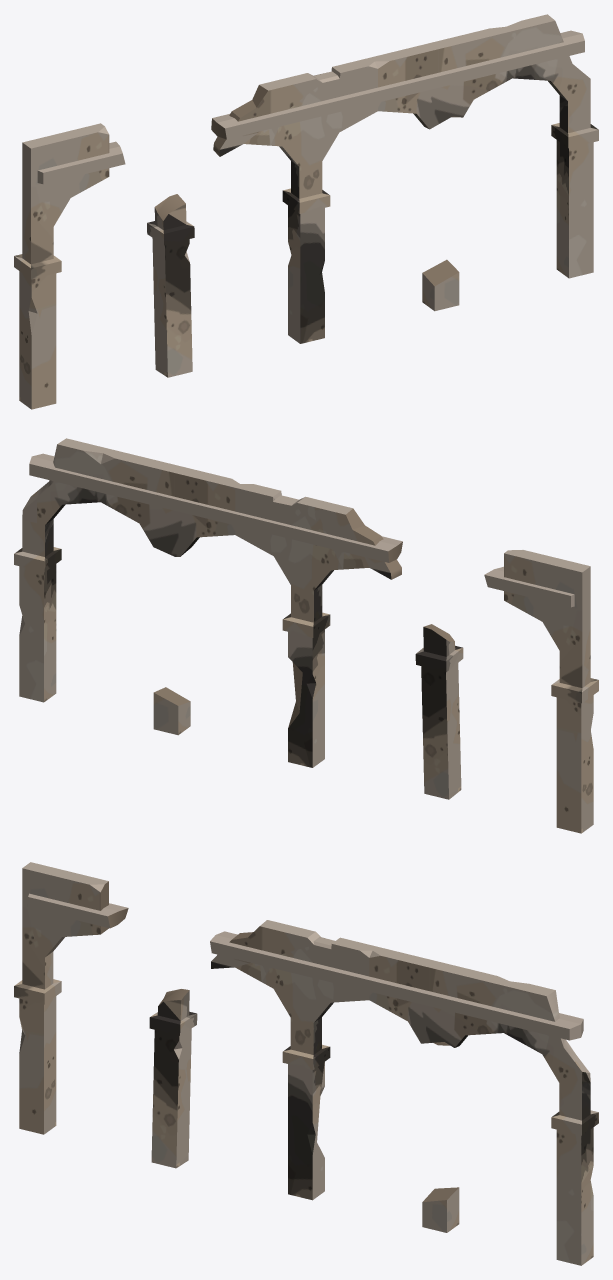
The model's file is SM_Bld_Village_Archway_01_Destroyed.glb.
The picture shows the model from 3 angles, top to bottom: view 1: azimuth 30°, elevation 25°; view 2: azimuth 150°, elevation 25°; view 3: azimuth 330°, elevation 25°; orthographic projection.
Parts seen in each view (by area): view 1: SM_Bld_Village_Archway_01_Destroyed; view 2: SM_Bld_Village_Archway_01_Destroyed; view 3: SM_Bld_Village_Archway_01_Destroyed.
Part boxes in pixels (x1,y1,x2,y2): SM_Bld_Village_Archway_01_Destroyed: [14, 14, 598, 409]; SM_Bld_Village_Archway_01_Destroyed: [14, 438, 598, 833]; SM_Bld_Village_Archway_01_Destroyed: [14, 862, 598, 1265].
Bounding box in the file's own units: 9.7 × 4.24 × 0.5443.
1 material, 1 textured.
